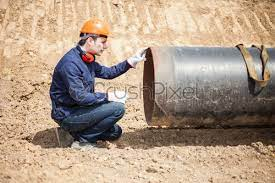casque: (36, 2, 136, 143)
